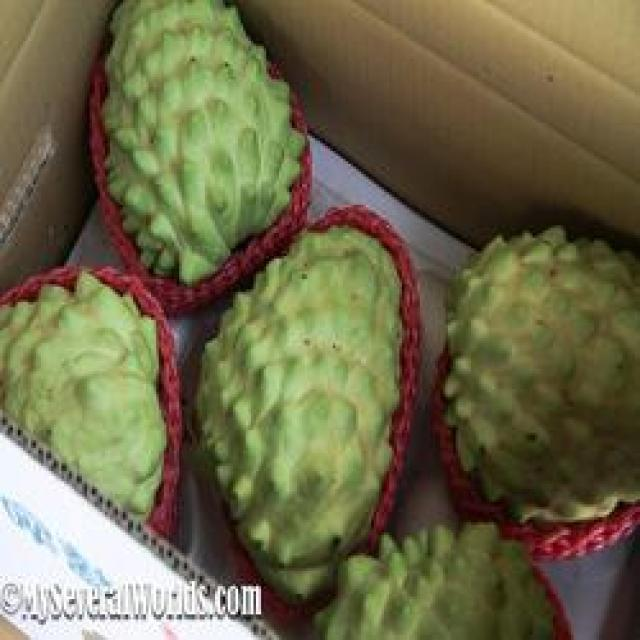apple: (184, 233, 415, 573), (432, 217, 640, 547), (97, 3, 302, 279), (2, 284, 182, 538)
